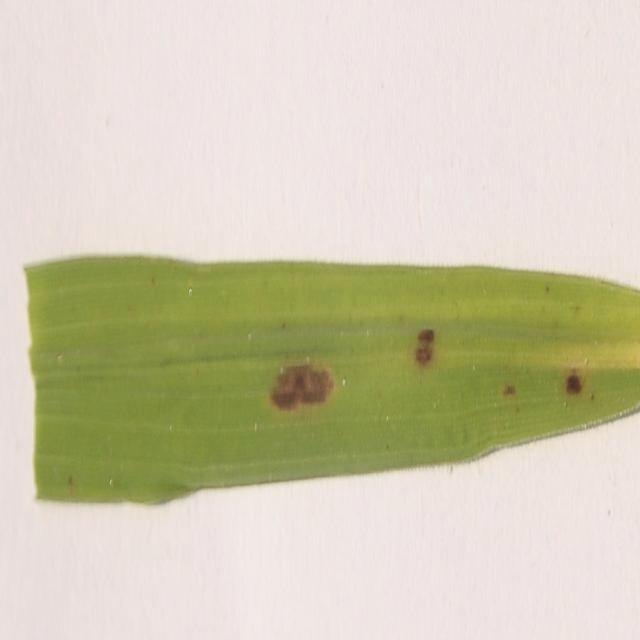Brownspot: (271, 365, 333, 409), (415, 328, 435, 366), (565, 372, 582, 394), (415, 346, 432, 365), (418, 329, 435, 343), (67, 475, 74, 495), (503, 384, 515, 395), (150, 276, 156, 286), (281, 322, 286, 329), (545, 285, 549, 293), (590, 392, 594, 400)
